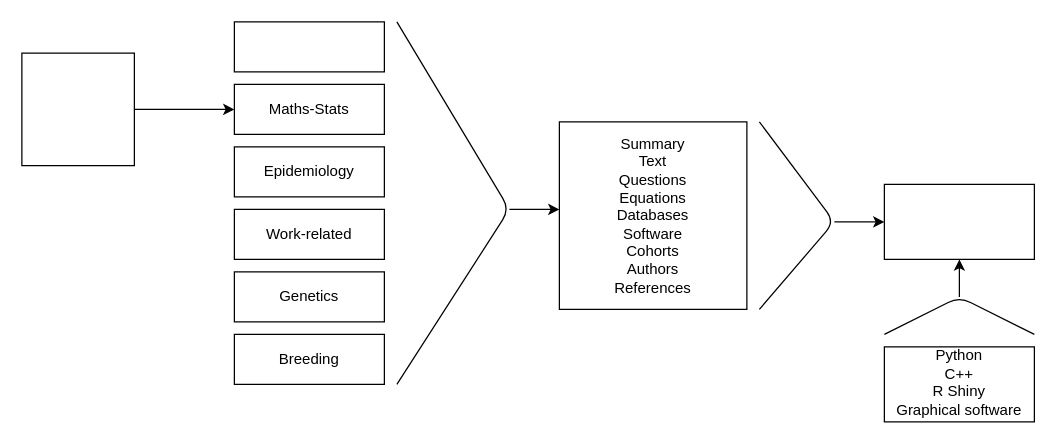
Image size: 1058x444. Some labels were removed from this diagram. Here are the shapes that lost their labels. From the top down, the centre of each, then its label:
At (x=308, y=46): "Machine learning/AI".
At (x=77, y=109): "Calculus Linear algebra Probability".
At (x=958, y=221): "Github Website Videos Course/pdf".
